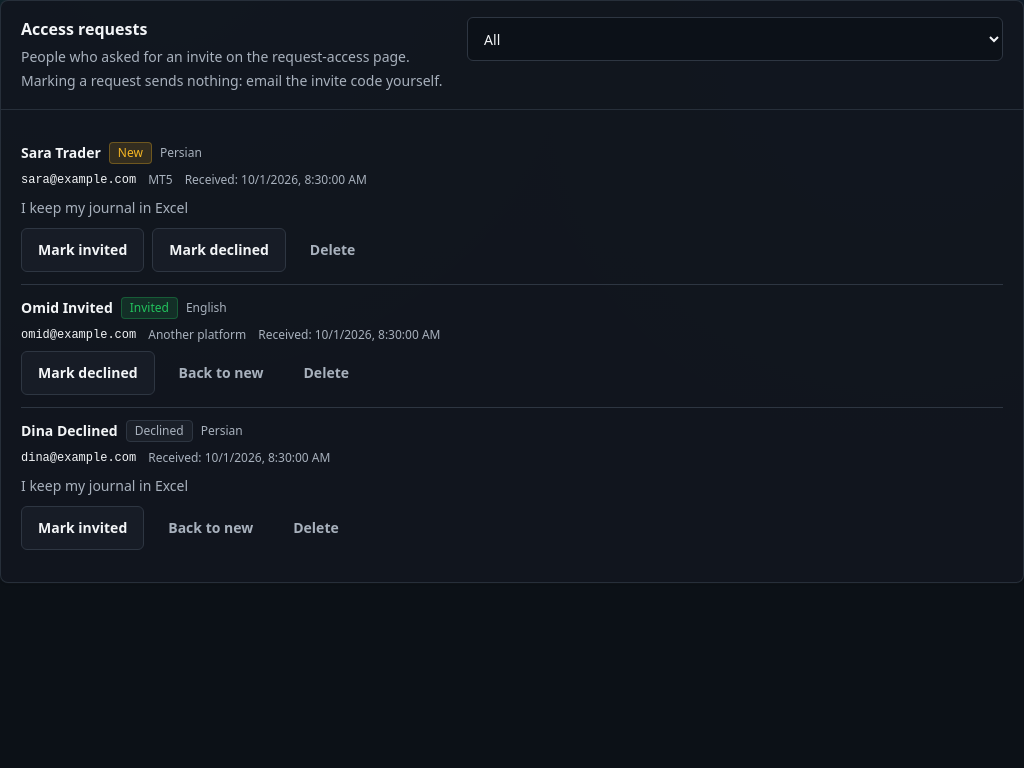
it: AccessRequestsPanel error text › shows the server's plain message for a client error on the English page (a missing request)
expect the text "Sara Trader" is shown: met, box x1=21 y1=143 x2=101 y2=162
Click the button "Mark declined" below "Sara Trader": (219, 250) x1=152 y1=228 x2=286 y2=272
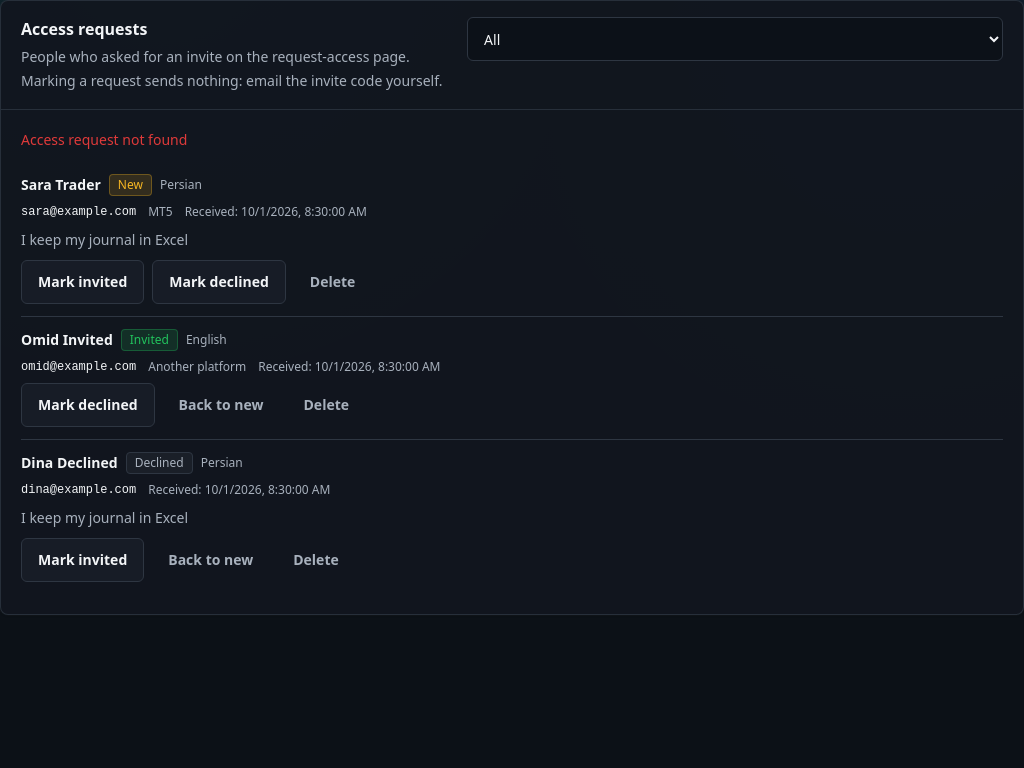
expect the text "Access request not found" is shown: met, box x1=21 y1=130 x2=187 y2=149
